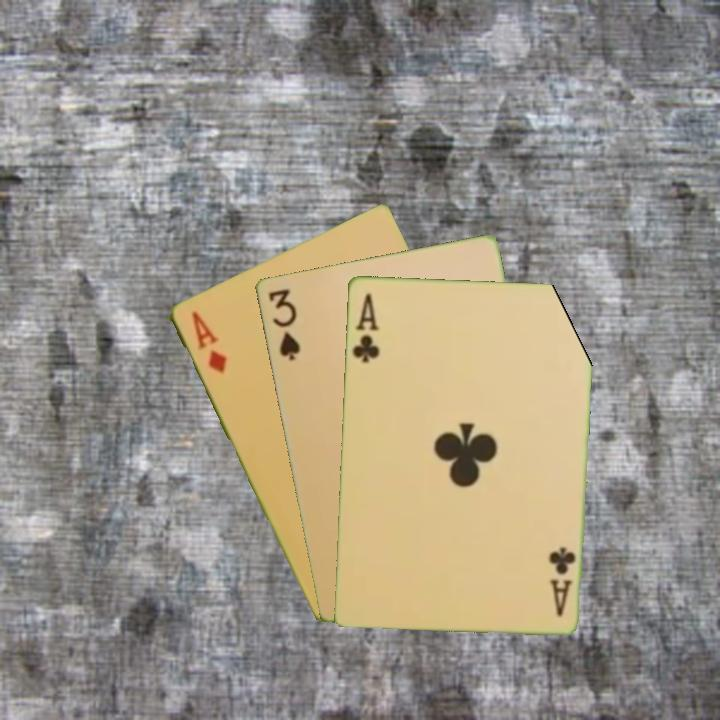3s: (264, 285, 303, 363)
Ac: (348, 290, 382, 365), (545, 543, 578, 619)
Ad: (187, 307, 229, 376)
